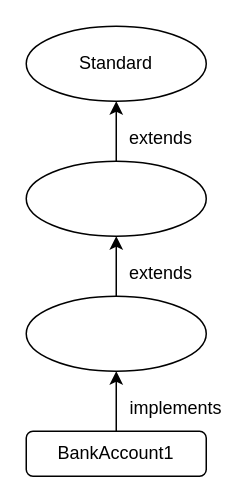
This 248x503 diagram has some shape labels left out. Each missing label, with the centre of its shape:
"BankAccount" goes at point (115, 333).
"BankAccountKernel" goes at point (115, 198).
